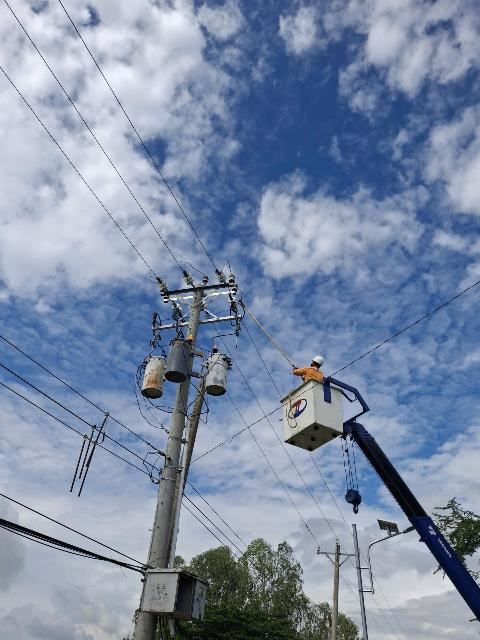gloves: (291, 366, 299, 370)
helmet: (311, 355, 324, 367)
